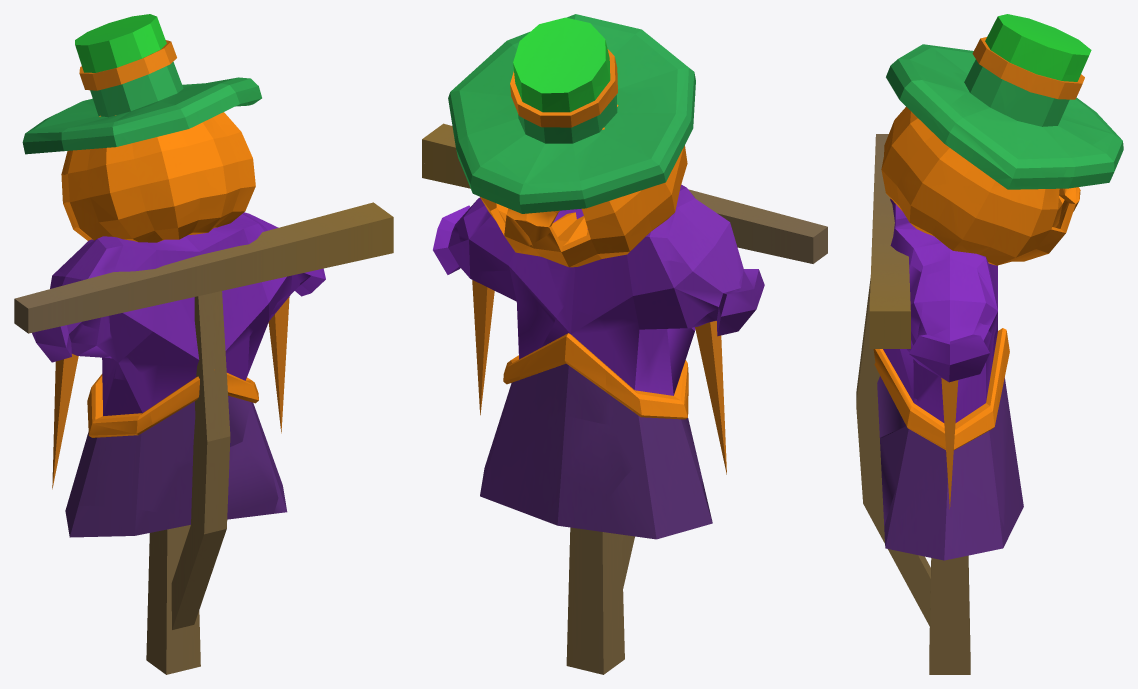
The model's file is Espantalho_Root.fbx.
3 renders of one model, left to right at view 1: azimuth 30°, elevation 25°; view 2: azimuth 150°, elevation 25°; view 3: azimuth 270°, elevation 25°, orthographic. The views are drawn at different scales.
Visible parts, largest first — view 1: Espantalho_frag_008, Espantalho_frag_050, Espantalho_frag_073, Espantalho_frag_013, Espantalho_frag_025, Espantalho_frag_003, Espantalho_frag_001, Espantalho_frag_017, Espantalho_frag_040, Espantalho_frag_027, Espantalho_frag_063, Espantalho_frag_060 (+36 smaller); view 2: Espantalho_frag_052, Espantalho_frag_058, Espantalho_frag_074, Espantalho_frag_013, Espantalho_frag_024, Espantalho_frag_037, Espantalho_frag_007, Espantalho_frag_077, Espantalho_frag_015, Espantalho_frag_049, Espantalho_frag_073, Espantalho_frag_046 (+33 smaller); view 3: Espantalho_frag_046, Espantalho_frag_037, Espantalho_frag_028, Espantalho_frag_013, Espantalho_frag_015, Espantalho_frag_032, Espantalho_frag_033, Espantalho_frag_019, Espantalho_frag_055, Espantalho_frag_045, Espantalho_frag_066, Espantalho_frag_022 (+34 smaller).
Boxes of the visible parts, <box> form: Espantalho_frag_008: <box>79,133,212,239</box>; Espantalho_frag_050: <box>142,324,258,469</box>; Espantalho_frag_073: <box>70,422,178,512</box>; Espantalho_frag_013: <box>75,14,173,100</box>; Espantalho_frag_025: <box>109,242,196,372</box>; Espantalho_frag_003: <box>158,440,278,530</box>; Espantalho_frag_001: <box>88,356,157,436</box>; Espantalho_frag_017: <box>32,322,138,380</box>; Espantalho_frag_040: <box>143,229,245,330</box>; Espantalho_frag_027: <box>67,505,158,537</box>; Espantalho_frag_063: <box>145,79,249,129</box>; Espantalho_frag_060: <box>203,122,253,193</box>; Espantalho_frag_052: <box>629,218,744,329</box>; Espantalho_frag_058: <box>517,306,609,424</box>; Espantalho_frag_074: <box>535,132,684,212</box>; Espantalho_frag_013: <box>513,17,617,110</box>; Espantalho_frag_024: <box>519,392,633,498</box>; Espantalho_frag_037: <box>464,67,624,190</box>; Espantalho_frag_007: <box>489,454,618,534</box>; Espantalho_frag_077: <box>542,209,640,319</box>; Espantalho_frag_015: <box>475,269,564,387</box>; Espantalho_frag_049: <box>603,318,653,429</box>; Espantalho_frag_073: <box>647,384,702,519</box>; Espantalho_frag_046: <box>448,33,527,138</box>; Espantalho_frag_046: <box>944,86,1068,186</box>; Espantalho_frag_037: <box>952,67,1113,160</box>; Espantalho_frag_028: <box>882,424,1006,528</box>; Espantalho_frag_013: <box>971,14,1091,75</box>; Espantalho_frag_015: <box>900,312,999,443</box>; Espantalho_frag_032: <box>908,263,997,350</box>; Espantalho_frag_033: <box>884,487,958,560</box>; Espantalho_frag_019: <box>952,185,1034,253</box>; Espantalho_frag_055: <box>935,478,1005,557</box>; Espantalho_frag_045: <box>909,322,991,382</box>; Espantalho_frag_066: <box>974,189,1059,265</box>; Espantalho_frag_022: <box>881,161,969,252</box>.
Bounding box in the file's own units: 82.49 × 135 × 50.94.
